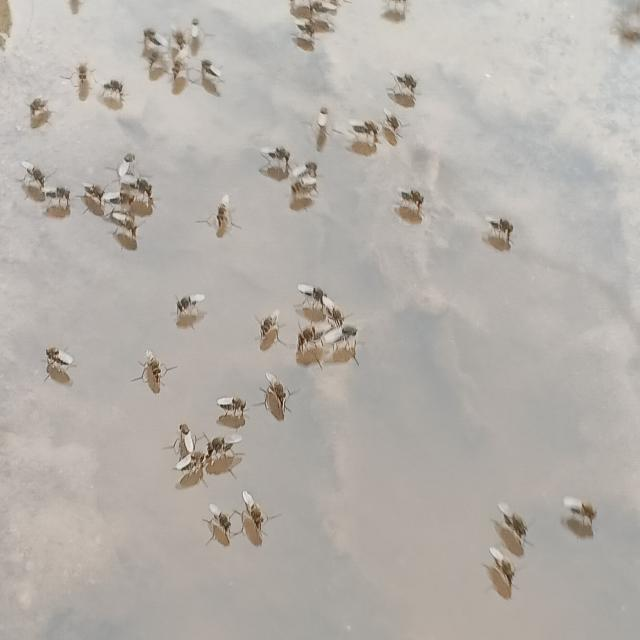Mosquito: (249, 128, 308, 185), (473, 541, 532, 596), (32, 337, 94, 387), (55, 44, 107, 102), (345, 103, 391, 158), (479, 209, 530, 253), (559, 496, 605, 538), (287, 162, 331, 202), (140, 348, 180, 392), (168, 288, 209, 330), (205, 192, 242, 238), (398, 176, 436, 220), (398, 60, 431, 110), (499, 500, 538, 540), (27, 87, 63, 130), (98, 70, 133, 107)
Mosquito Swarm: (176, 282, 364, 544), (26, 156, 154, 239)
